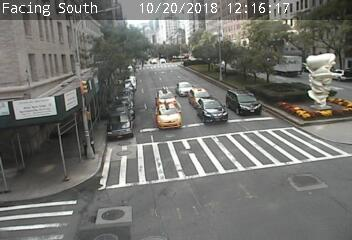car: (225, 89, 261, 115), (196, 97, 228, 125), (155, 101, 182, 128), (189, 88, 212, 108), (156, 87, 176, 107), (176, 81, 193, 96)
